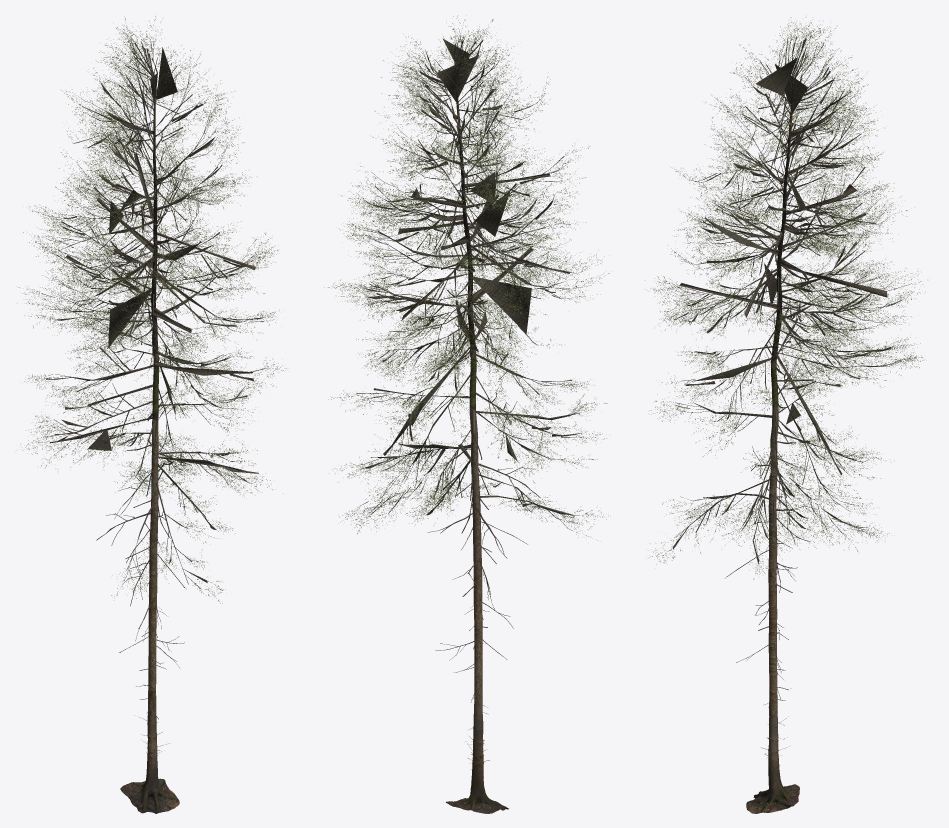
The model's file is fir_tree_01_0.glb.
3 views of the same model, side by side, from view 1: azimuth 30°, elevation 25°; view 2: azimuth 150°, elevation 25°; view 3: azimuth 270°, elevation 25° (orthographic). The views are drawn at different scales.
Visible parts, largest first — view 1: fir_tree_01_a_LOD0.003, fir_tree_01_a_LOD0.001, fir_tree_01_a_LOD0.002, fir_tree_01_a_LOD0; view 2: fir_tree_01_a_LOD0.003, fir_tree_01_a_LOD0.001, fir_tree_01_a_LOD0.002, fir_tree_01_a_LOD0; view 3: fir_tree_01_a_LOD0.003, fir_tree_01_a_LOD0.001, fir_tree_01_a_LOD0.002, fir_tree_01_a_LOD0.
Boxes of the visible parts, <box> form: fir_tree_01_a_LOD0.003: <box>19,16,286,603</box>; fir_tree_01_a_LOD0.001: <box>38,39,267,589</box>; fir_tree_01_a_LOD0.002: <box>120,81,179,813</box>; fir_tree_01_a_LOD0: <box>96,444,190,719</box>; fir_tree_01_a_LOD0.003: <box>324,16,609,540</box>; fir_tree_01_a_LOD0.001: <box>350,35,592,530</box>; fir_tree_01_a_LOD0.002: <box>446,72,508,813</box>; fir_tree_01_a_LOD0: <box>427,438,540,729</box>; fir_tree_01_a_LOD0.003: <box>647,17,925,579</box>; fir_tree_01_a_LOD0.001: <box>667,37,909,564</box>; fir_tree_01_a_LOD0.002: <box>746,83,799,813</box>; fir_tree_01_a_LOD0: <box>725,441,817,725</box>.
Bounding box in the file's own units: 6.49 × 18.9 × 6.4.
4 materials, 4 textured.
